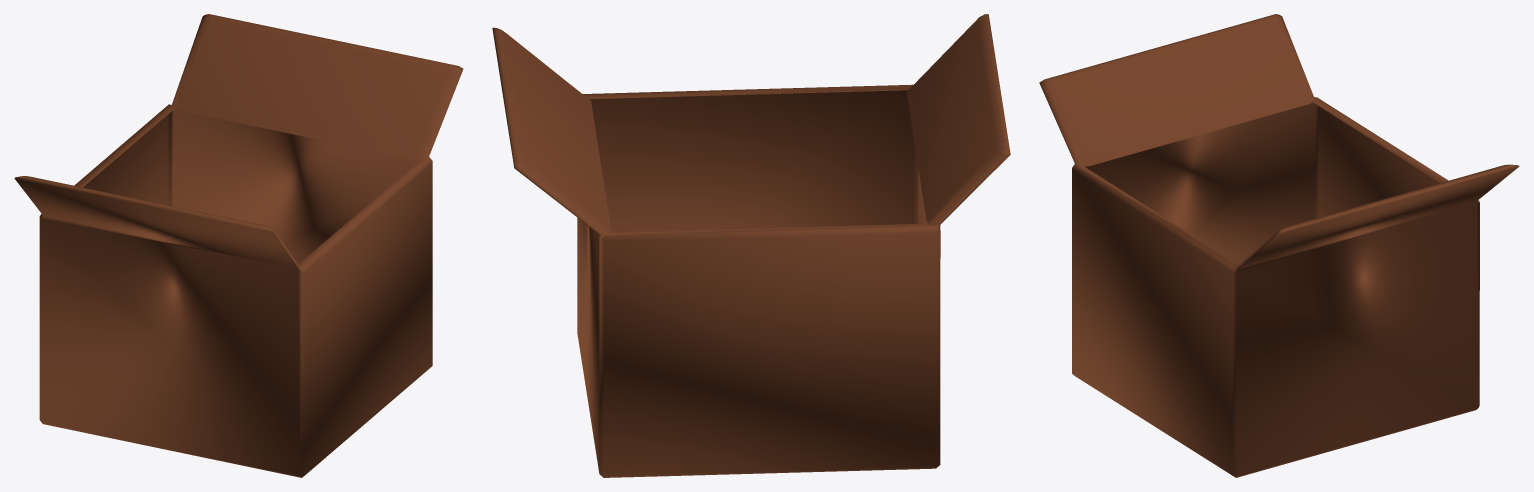
File: cajaeruf87.fbx
The picture shows the model from 3 angles, left to right: view 1: azimuth 30°, elevation 25°; view 2: azimuth 150°, elevation 25°; view 3: azimuth 270°, elevation 25°; orthographic projection. The views are drawn at different scales.
Visible parts, largest first — view 1: cajavacia001; view 2: cajavacia001; view 3: cajavacia001.
Part boxes in pixels (box(x1,y1,x2,y2)): cajavacia001: box(14, 14, 463, 477); cajavacia001: box(492, 14, 1010, 477); cajavacia001: box(1039, 14, 1519, 477).
Bounding box in the file's own units: 8.39 × 4.87 × 7.75.
